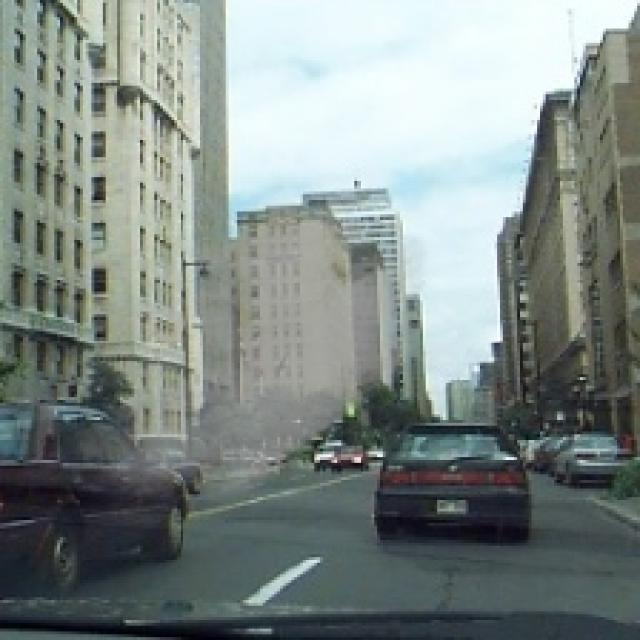Smoke: (17, 180, 443, 534)
